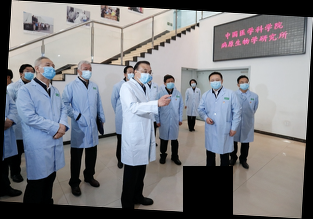with_mask: (41, 61, 56, 80), (139, 68, 153, 86), (21, 68, 36, 82), (80, 65, 93, 81), (210, 77, 223, 91), (239, 79, 251, 92), (165, 79, 176, 91), (126, 69, 136, 82), (191, 80, 198, 90)
